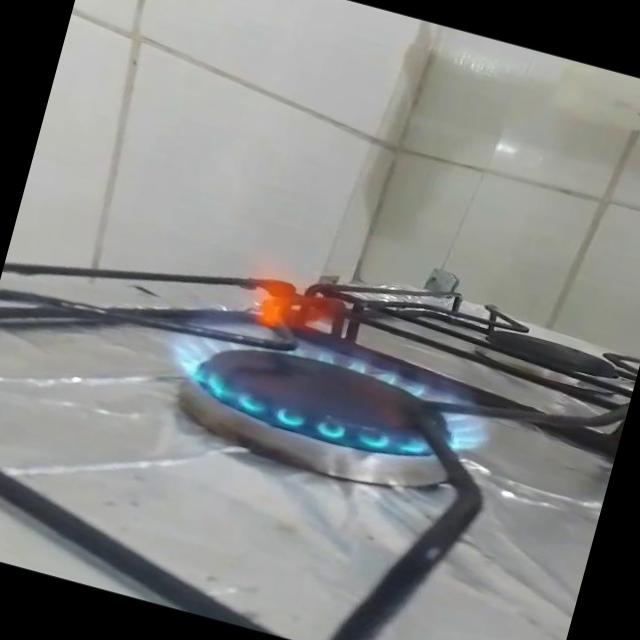Fire: (148, 230, 528, 482)
